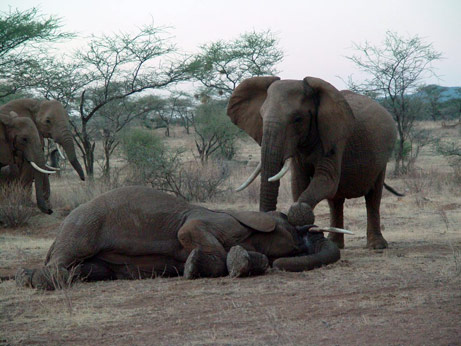elephant: (15, 186, 359, 293), (221, 67, 405, 254), (1, 94, 92, 207), (1, 111, 64, 214)
